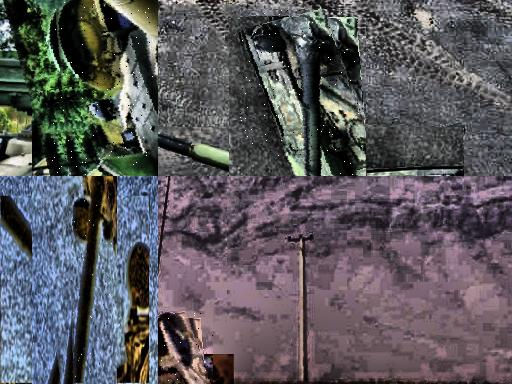tanks: (241, 10, 367, 177), (55, 1, 159, 177), (73, 177, 114, 384), (159, 313, 208, 384)
